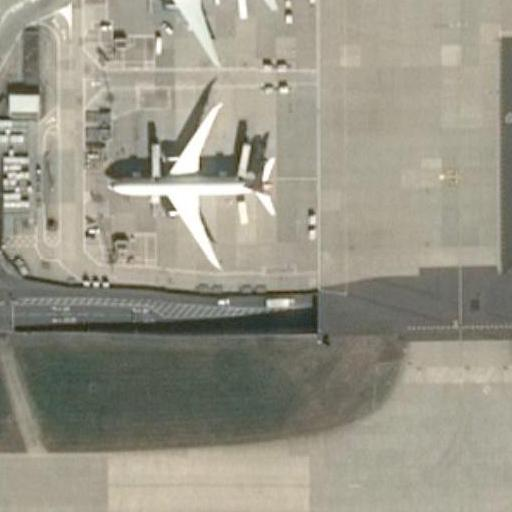Aircraft: (103, 104, 283, 269), (102, 0, 281, 54)
